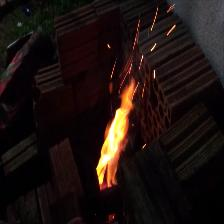fire: (98, 81, 136, 192)
